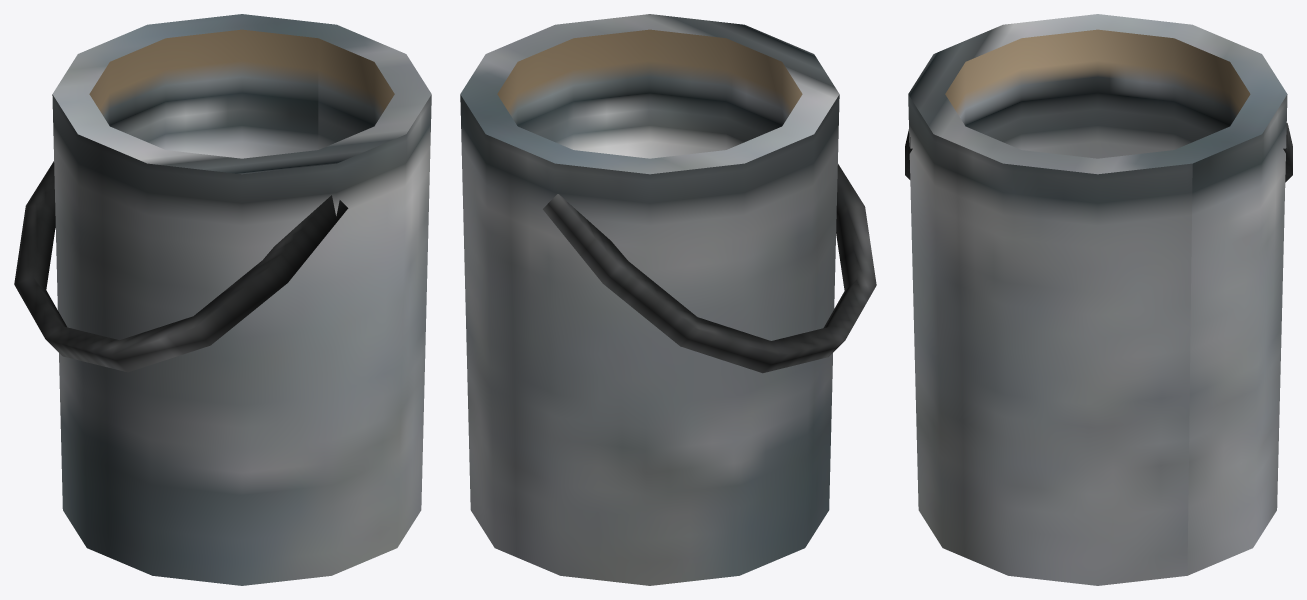
The model's file is bucket.FBX.
3 renders of one model, left to right at view 1: azimuth 30°, elevation 25°; view 2: azimuth 150°, elevation 25°; view 3: azimuth 270°, elevation 25°, orthographic.
Parts seen in each view (by area): view 1: Cylinder01; view 2: Cylinder01; view 3: Cylinder01.
Part boxes in pixels (left/top/right/bottom): Cylinder01: left=14, top=14, right=431, bottom=585; Cylinder01: left=460, top=14, right=876, bottom=585; Cylinder01: left=905, top=14, right=1292, bottom=585.
Size of the model in its own units: 168 by 157 by 185.
1 material, 1 textured.
